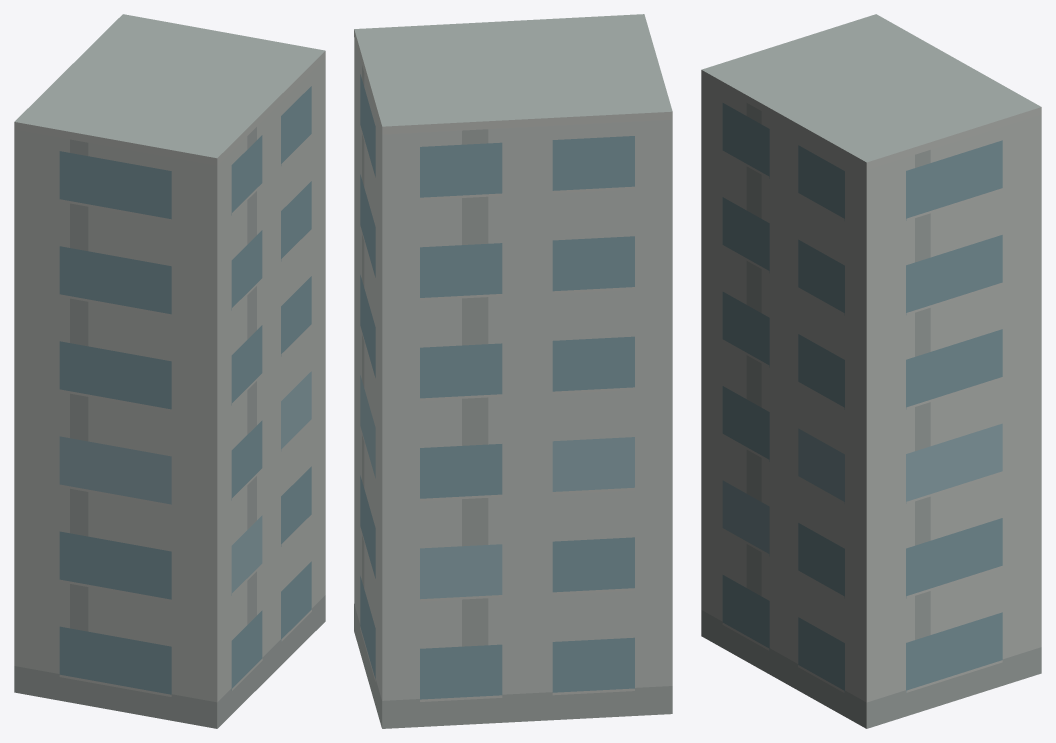
File: residential-6892ced0-4307-4988-a48a-704894c16ab7.glb
3 renders of one model, left to right at view 1: azimuth 30°, elevation 25°; view 2: azimuth 150°, elevation 25°; view 3: azimuth 270°, elevation 25°, orthographic. The views are drawn at different scales.
Visible parts, largest first — view 1: residential-6892ced0-4307-4988-a48a-704894c16ab7.tmp; view 2: residential-6892ced0-4307-4988-a48a-704894c16ab7.tmp; view 3: residential-6892ced0-4307-4988-a48a-704894c16ab7.tmp.
Boxes of the visible parts, bbox=[...] form: residential-6892ced0-4307-4988-a48a-704894c16ab7.tmp: bbox=[14, 14, 325, 728]; residential-6892ced0-4307-4988-a48a-704894c16ab7.tmp: bbox=[354, 14, 672, 728]; residential-6892ced0-4307-4988-a48a-704894c16ab7.tmp: bbox=[701, 14, 1041, 728].
Size of the model in its own units: 10.3 by 18.3 by 9.97.
